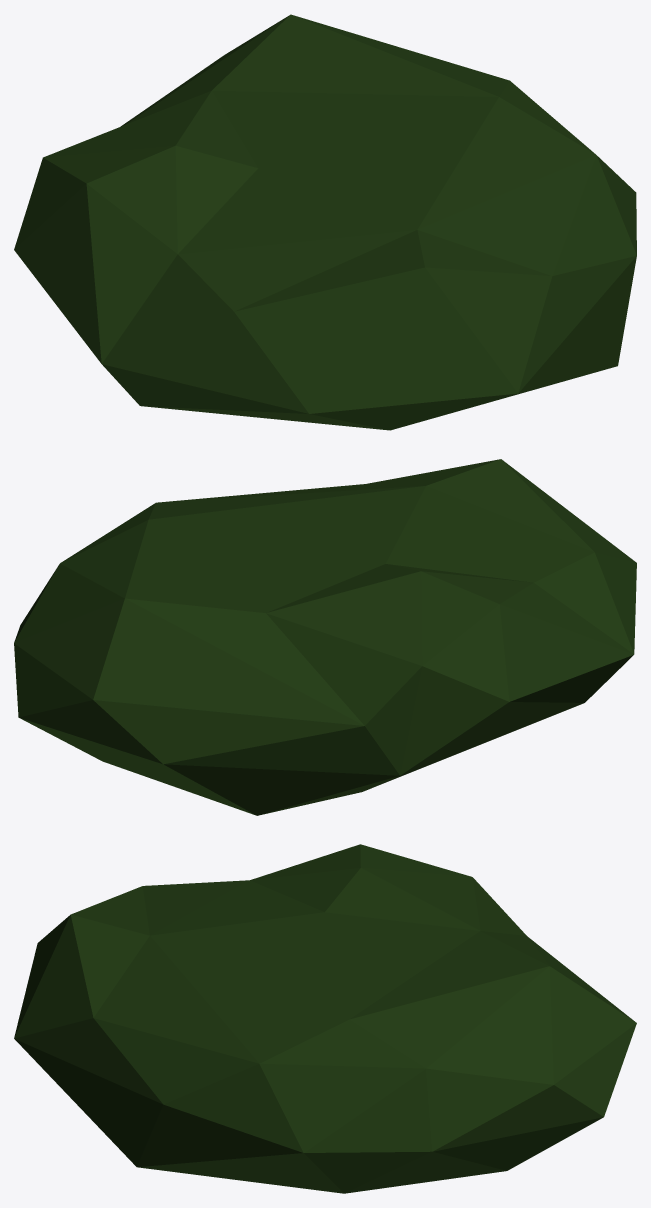
File: SM_bush_03.fbx
3 views of the same model, one above another, from view 1: azimuth 30°, elevation 25°; view 2: azimuth 150°, elevation 25°; view 3: azimuth 270°, elevation 25° (orthographic). The views are drawn at different scales.
Visible parts, largest first — view 1: Object123; view 2: Object123; view 3: Object123.
Boxes of the visible parts, box(x1,y1,x2,y2) form: Object123: box(14, 14, 636, 430); Object123: box(14, 459, 636, 815); Object123: box(14, 844, 636, 1193).
Size of the model in its own units: 120 by 55.59 by 130.
